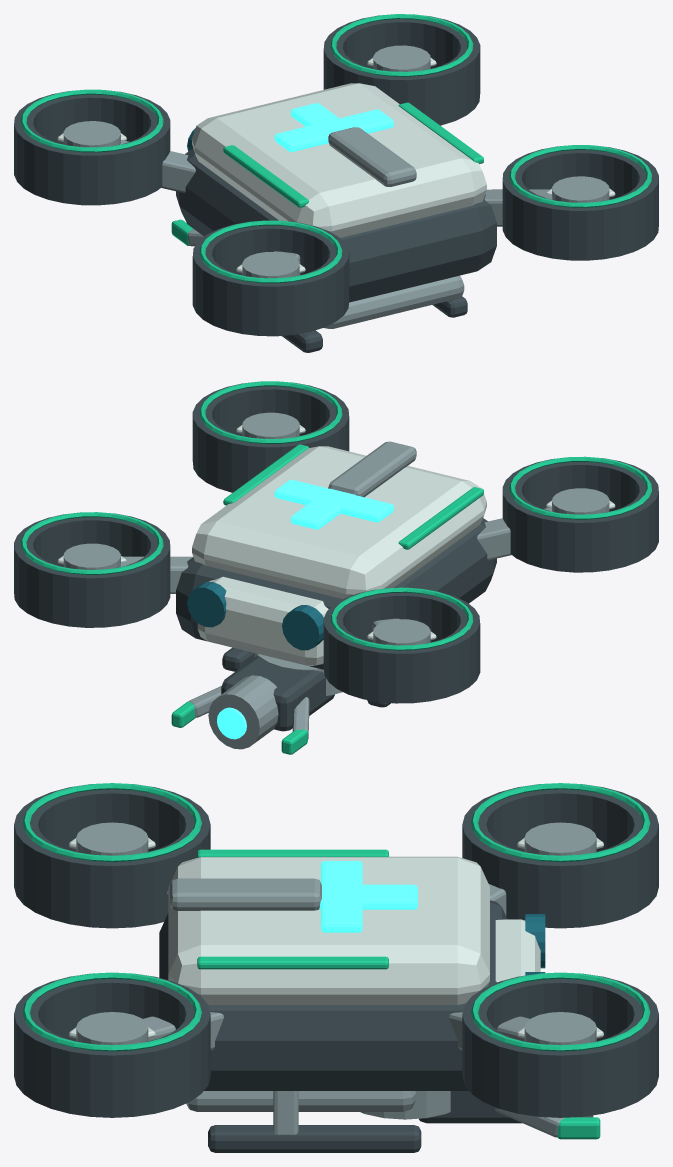
The model's file is repair_drone.glb.
3 views of the same model, one above another, from view 1: azimuth 30°, elevation 25°; view 2: azimuth 150°, elevation 25°; view 3: azimuth 270°, elevation 25° (orthographic). The views are drawn at different scales.
Parts seen in each view (by area): view 1: body_02_Graphite_Metal, body_01_White_Ceramic, body_03_Brushed_Steel, body_04_Medical_Green, body_05_Repair_Emitter; view 2: body_02_Graphite_Metal, body_01_White_Ceramic, body_03_Brushed_Steel, body_04_Medical_Green, body_05_Repair_Emitter, body_06_Sensor_Glass; view 3: body_02_Graphite_Metal, body_01_White_Ceramic, body_03_Brushed_Steel, body_04_Medical_Green, body_05_Repair_Emitter, body_06_Sensor_Glass.
Part boxes in pixels (bbox=[...]): body_02_Graphite_Metal: bbox=[14, 14, 658, 352]; body_01_White_Ceramic: bbox=[192, 83, 486, 237]; body_03_Brushed_Steel: bbox=[63, 45, 609, 328]; body_04_Medical_Green: bbox=[21, 14, 651, 283]; body_05_Repair_Emitter: bbox=[274, 103, 393, 151]; body_02_Graphite_Metal: bbox=[14, 382, 658, 731]; body_01_White_Ceramic: bbox=[192, 446, 486, 665]; body_03_Brushed_Steel: bbox=[63, 412, 609, 749]; body_04_Medical_Green: bbox=[21, 381, 651, 754]; body_05_Repair_Emitter: bbox=[217, 479, 393, 739]; body_06_Sensor_Glass: bbox=[187, 581, 323, 650]; body_02_Graphite_Metal: bbox=[14, 784, 658, 1152]; body_01_White_Ceramic: bbox=[168, 856, 540, 1004]; body_03_Brushed_Steel: bbox=[76, 822, 596, 1137]; body_04_Medical_Green: bbox=[22, 783, 650, 1139]; body_05_Repair_Emitter: bbox=[319, 861, 417, 932]; body_06_Sensor_Glass: bbox=[525, 914, 545, 975].
Bounding box in the file's own units: 1.78 × 0.7005 × 1.78.
